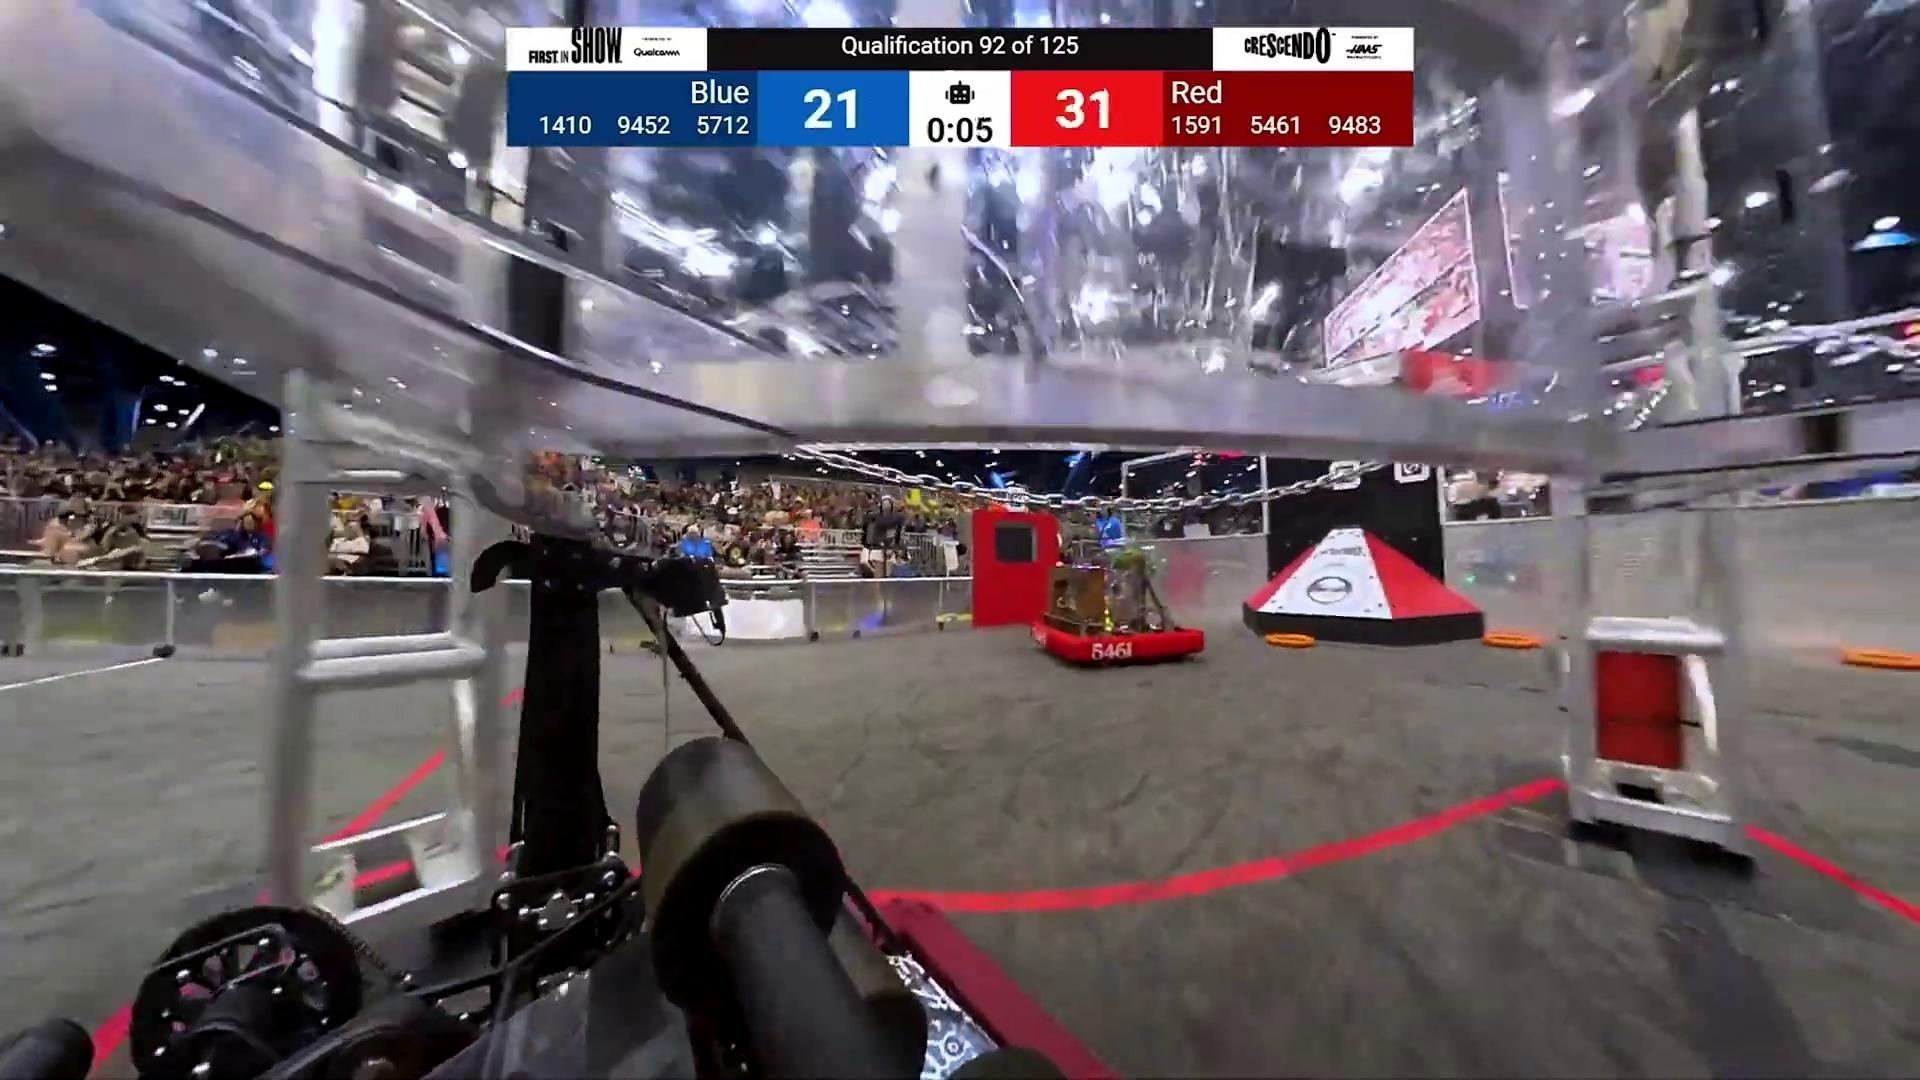robot: (0, 891, 1129, 1079), (1033, 537, 1204, 669)
